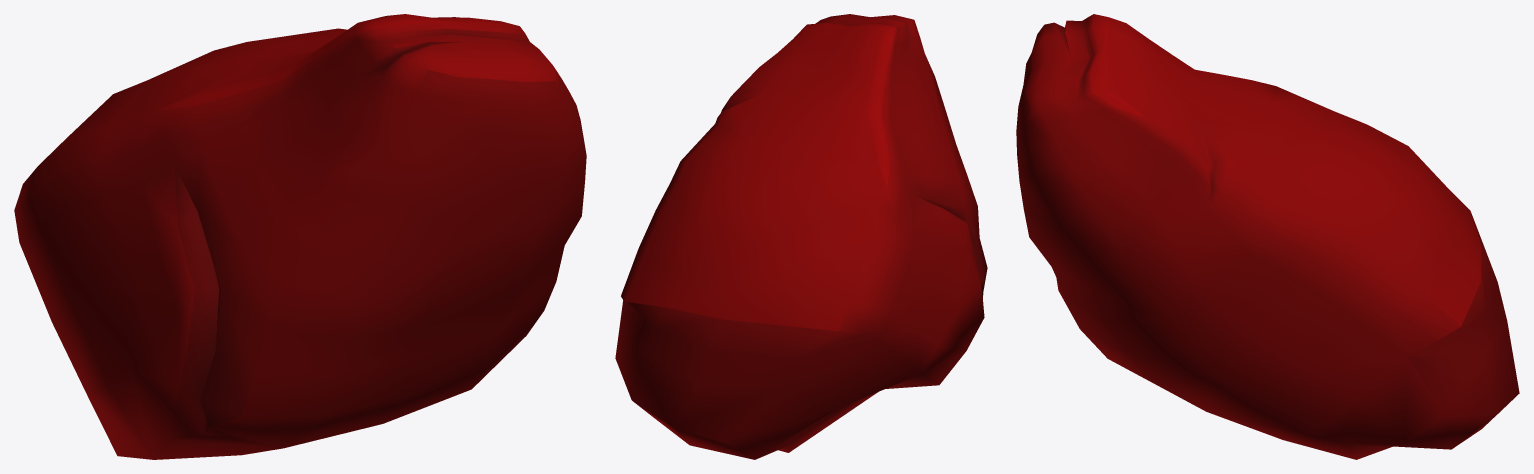
File: geology-rocks-slantedrock_v3.fbx
3 views of the same model, side by side, from view 1: azimuth 30°, elevation 25°; view 2: azimuth 150°, elevation 25°; view 3: azimuth 270°, elevation 25° (orthographic). The views are drawn at different scales.
Parts seen in each view (by area): view 1: SlantedRock_v3; view 2: SlantedRock_v3; view 3: SlantedRock_v3.
Boxes of the visible parts, x1,y1,x2,y2 form: SlantedRock_v3: (14, 14, 586, 459); SlantedRock_v3: (615, 14, 987, 459); SlantedRock_v3: (1016, 14, 1519, 459).
Bounding box in the file's own units: 10.16 × 12.79 × 14.05.
